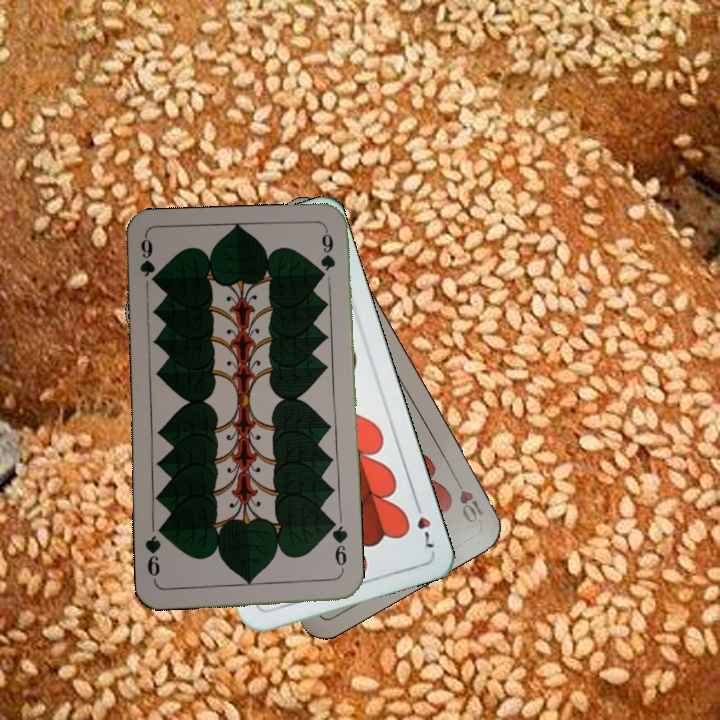G9: (326, 518, 351, 577), (136, 234, 159, 287)
H10: (448, 471, 487, 526)
H7: (411, 496, 438, 551)
